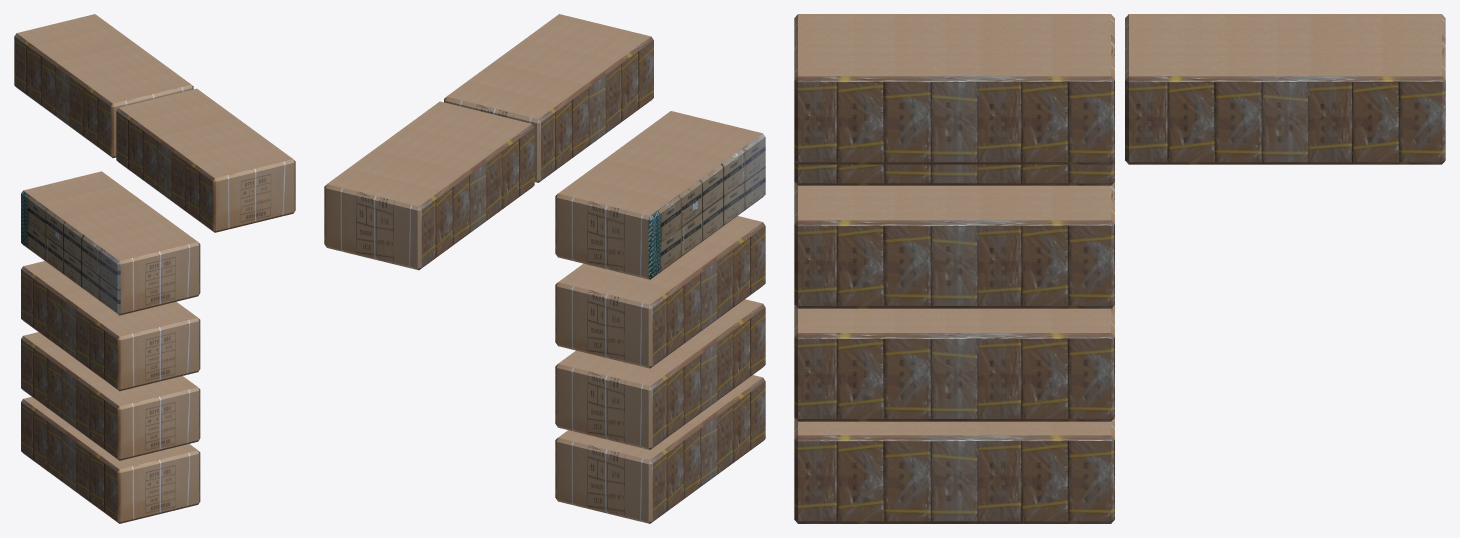
The model's file is humujing.FBX.
3 views of the same model, side by side, from view 1: azimuth 30°, elevation 25°; view 2: azimuth 150°, elevation 25°; view 3: azimuth 270°, elevation 25° (orthographic). The views are drawn at different scales.
Parts seen in each view (by area): view 1: Box3767, Box9099, Box9100, Box3768, Box3769, Box3770; view 2: Box9100, Box3767, Box9099, Box3768, Box3769, Box3770; view 3: Box9099, Box9100, Box3768, Box3769, Box3770, Box3767.
Boxes of the visible parts, x1,y1,x2,y2 form: Box3767: (21,171,200,315); Box9099: (116,88,295,232); Box9100: (14,14,193,157); Box3768: (21,261,200,391); Box3769: (21,332,200,460); Box3770: (21,397,200,523); Box9100: (324,101,534,270); Box3767: (555,111,765,279); Box9099: (444,14,653,182); Box3768: (555,216,765,368); Box3769: (555,299,765,449); Box3770: (555,375,765,523); Box9099: (794,14,1114,164); Box9100: (1125,14,1445,164); Box3768: (794,182,1114,308); Box3769: (794,305,1114,421); Box3770: (794,417,1114,523); Box3767: (794,161,1114,185).
Bounding box in the file's own units: 1.58 × 3.08 × 2.73.
